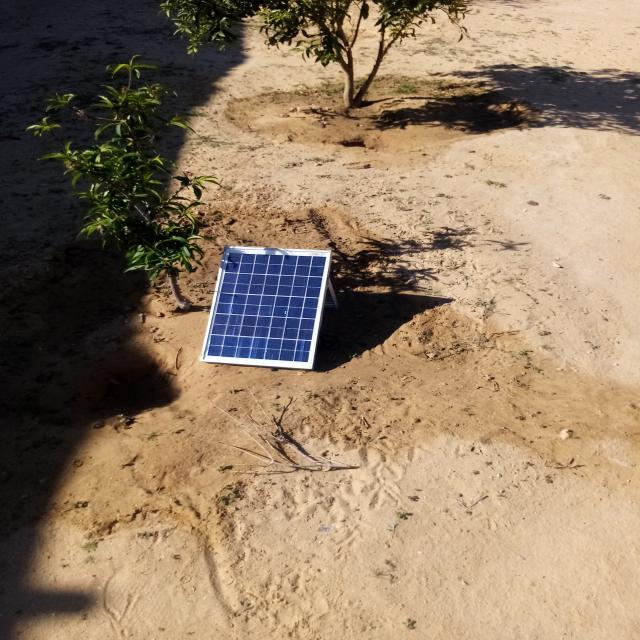no faulty: (202, 247, 331, 369)
